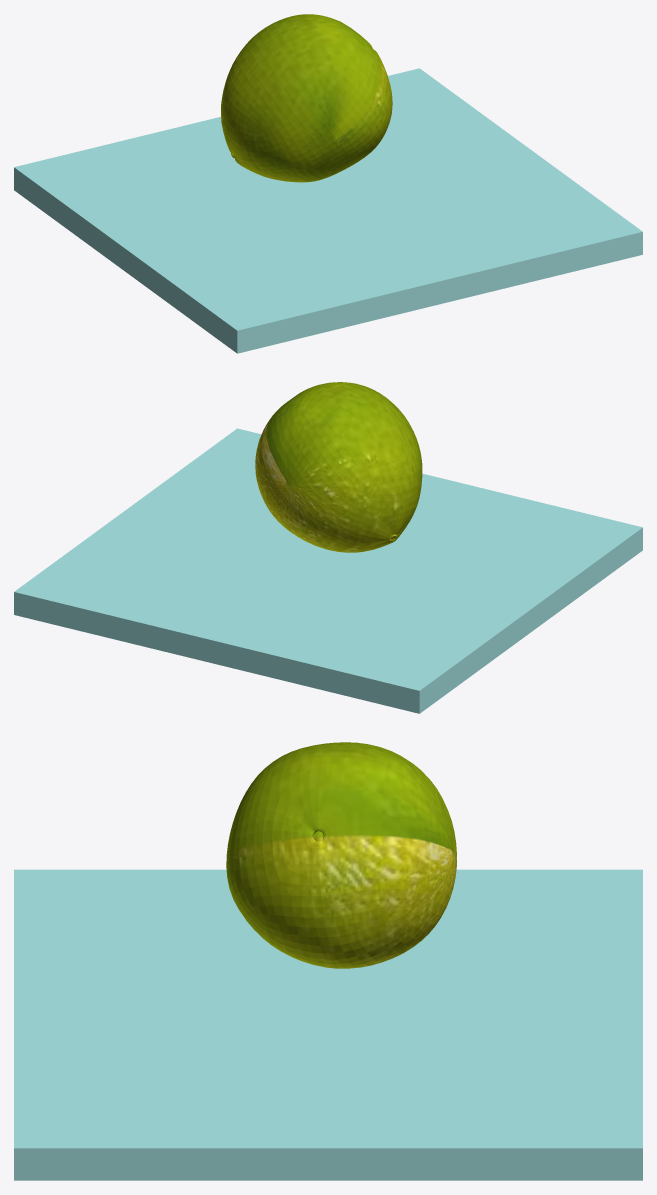
File: limon.DAE
The picture shows the model from 3 angles, top to bottom: view 1: azimuth 30°, elevation 25°; view 2: azimuth 150°, elevation 25°; view 3: azimuth 270°, elevation 25°; orthographic projection. The views are drawn at different scales.
Visible parts, largest first — view 1: Box001, Orange4; view 2: Box001, Orange4; view 3: Box001, Orange4.
Part boxes in pixels (left/top/right/bottom): Box001: left=14, top=68, right=642, bottom=353; Orange4: left=221, top=14, right=392, bottom=182; Box001: left=14, top=428, right=642, bottom=713; Orange4: left=255, top=382, right=422, bottom=552; Box001: left=14, top=869, right=642, bottom=1180; Orange4: left=226, top=742, right=456, bottom=968.
Bounding box in the file's own units: 134 × 128 × 63.17.
Materials: 2 (1 with a texture image).
